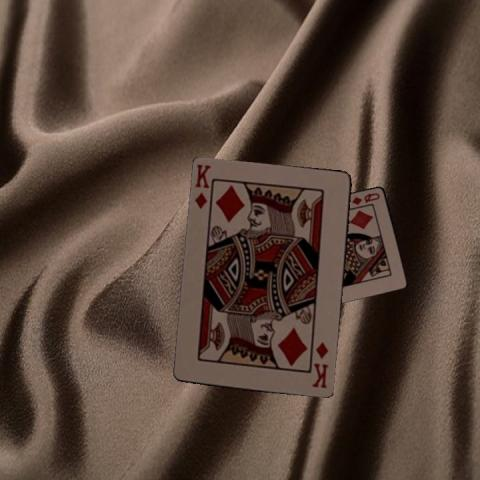Kd: (192, 161, 215, 218), (309, 339, 330, 390)
Qd: (350, 190, 382, 206)
